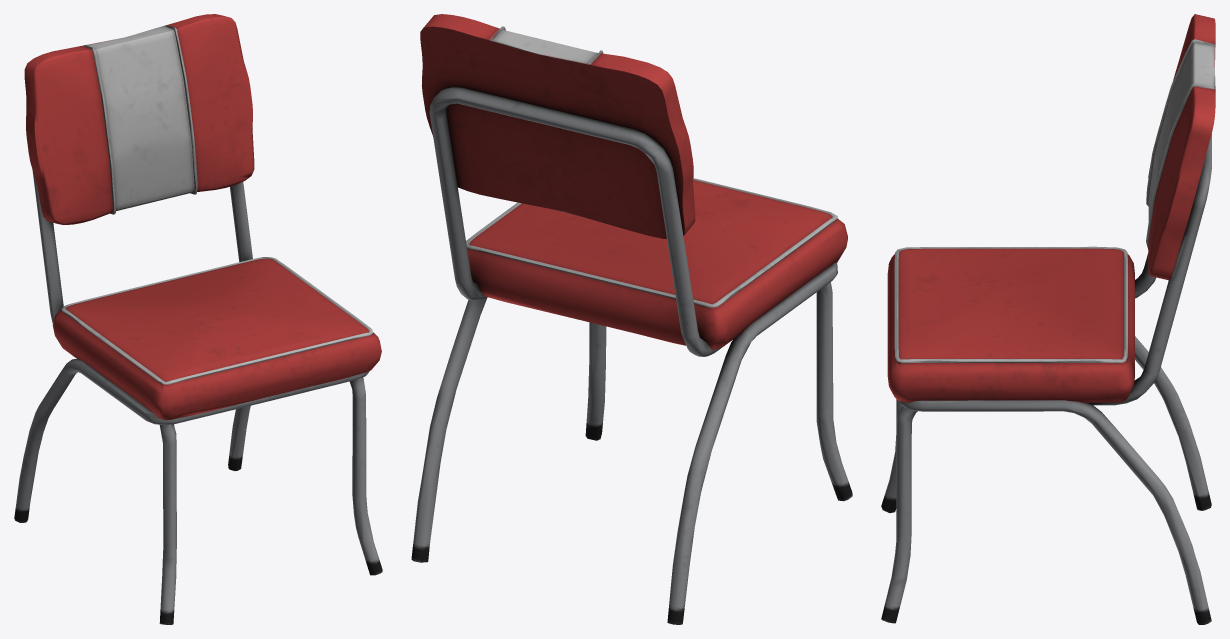
The model's file is Diner Chair.fbx.
The picture shows the model from 3 angles, left to right: view 1: azimuth 30°, elevation 25°; view 2: azimuth 150°, elevation 25°; view 3: azimuth 270°, elevation 25°; orthographic projection. The views are drawn at different scales.
Visible parts, largest first — view 1: Diner_Chair; view 2: Diner_Chair; view 3: Diner_Chair.
Part boxes in pixels (<box>): Diner_Chair: <box>14,14,382,624</box>; Diner_Chair: <box>411,14,852,624</box>; Diner_Chair: <box>881,14,1215,624</box>.
Size of the model in its own units: 52.12 by 101 by 60.44.
1 material, 1 textured.
